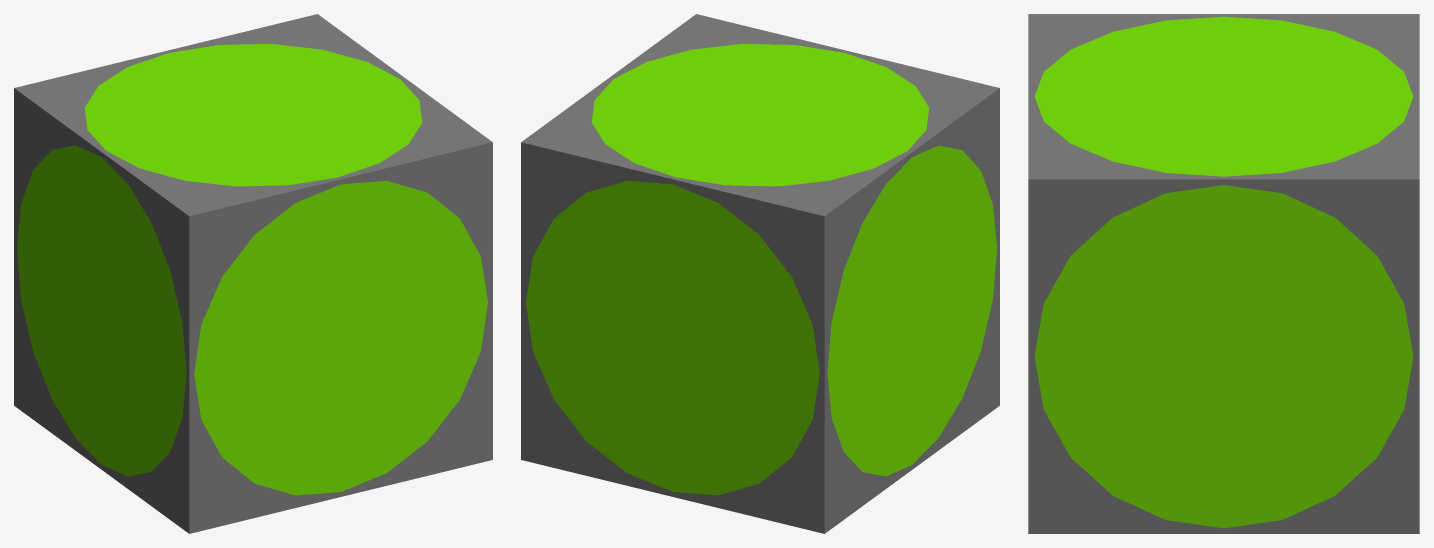
Rendered from CubeWithGlass.fbx.
3 renders of one model, left to right at view 1: azimuth 30°, elevation 25°; view 2: azimuth 150°, elevation 25°; view 3: azimuth 270°, elevation 25°, orthographic. The views are drawn at different scales.
Parts seen in each view (by area): view 1: Cube; view 2: Cube; view 3: Cube.
Boxes of the visible parts, x1=… form: Cube: x1=14, y1=14, x2=492, y2=533; Cube: x1=521, y1=14, x2=999, y2=533; Cube: x1=1028, y1=14, x2=1419, y2=533.
Size of the model in its own units: 1 by 1 by 1.
